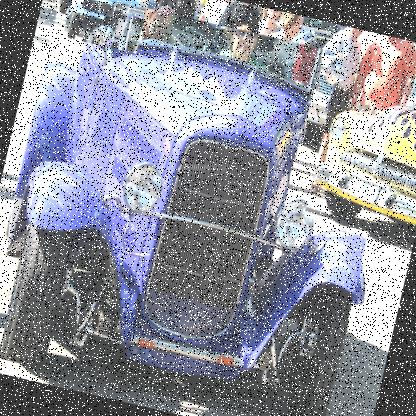Car: (0, 0, 406, 415), (302, 38, 415, 246), (61, 0, 154, 55)
